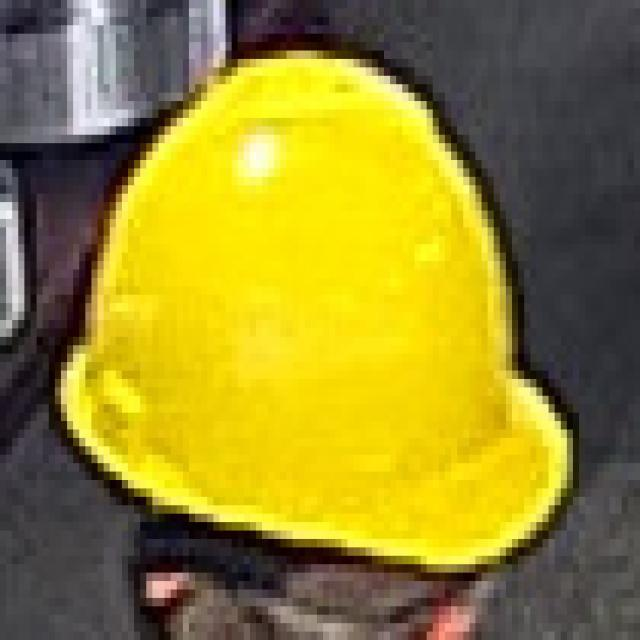yellow helmet: (64, 38, 589, 566)
